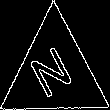N_SE: (28, 40, 81, 105)
